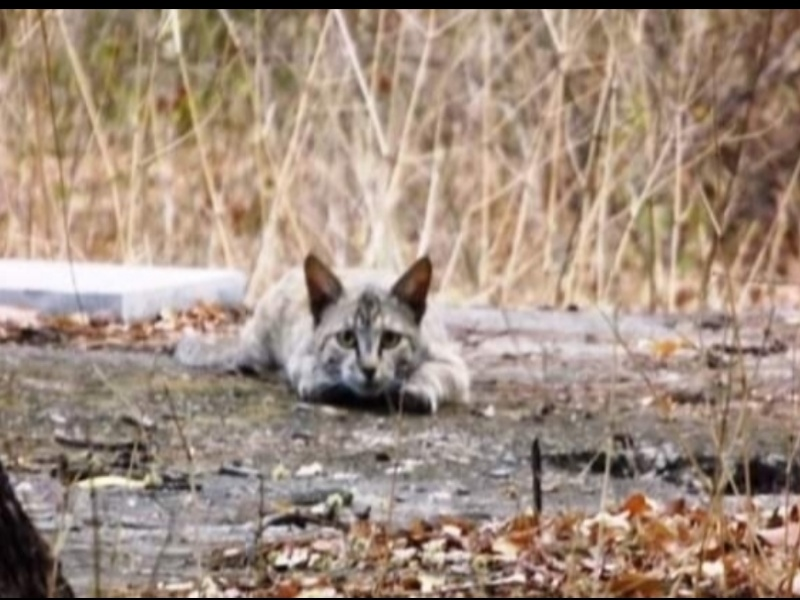cat: (178, 249, 476, 412)
